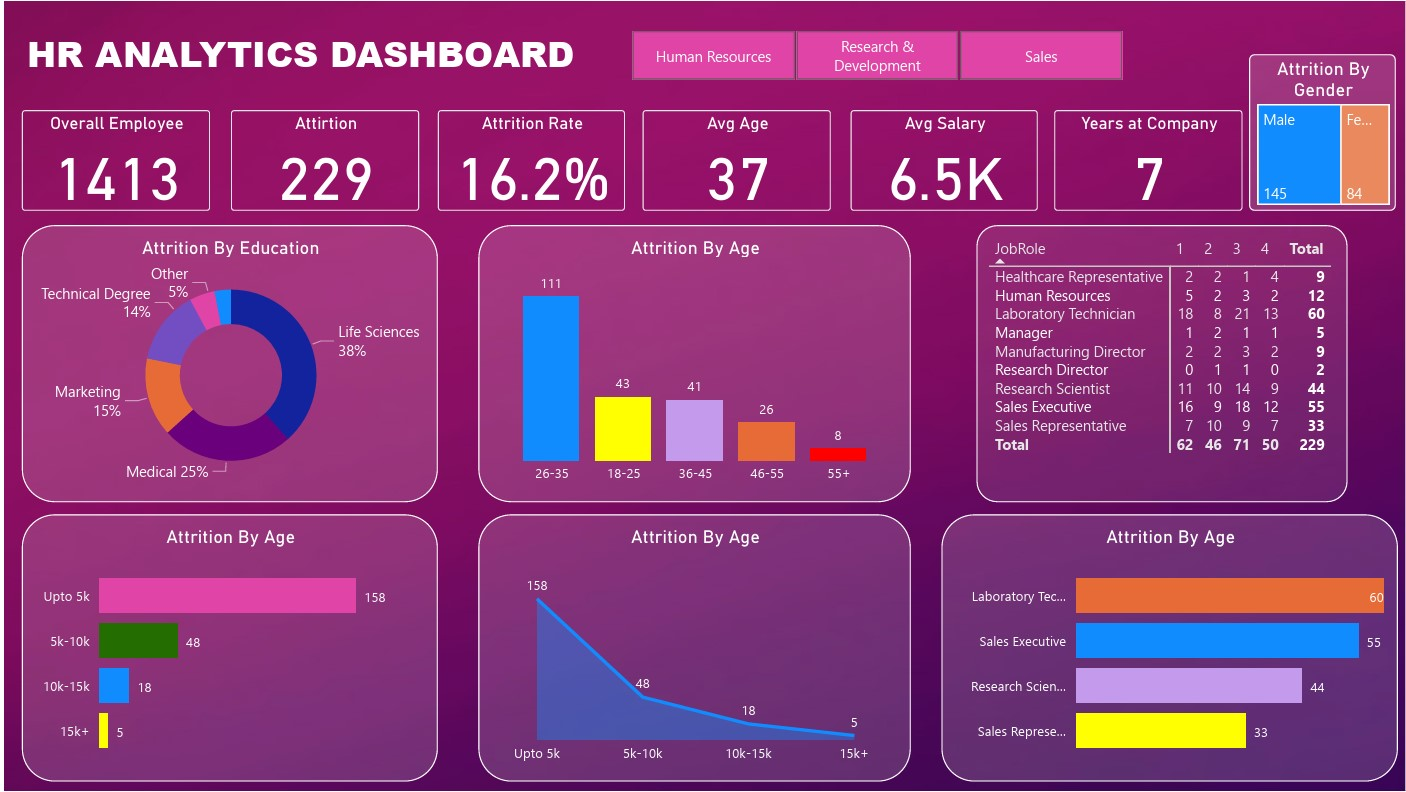

The dashboard page shown, as its layout file describes it:
{"tool":"powerbi","page":{"name":"Page 1","canvas":[1280,720],"ordinal":0},"visuals":[{"type":"card","title":"Overall Employee","fields":{"Values":["Count(HR_Analytics.EmpID)"]},"box":[16,99.3,172,91.3],"z":0},{"type":"card","title":"Attirtion","fields":{"Values":["Sum(HR_Analytics.AttritionCount)"]},"box":[206.6,99.3,172,91.3],"z":1000},{"type":"card","title":"Attrition Rate","fields":{"Values":["HR_Analytics.AttritionRate"]},"box":[396.4,99.3,171.1,91.3],"z":2000},{"type":"card","title":"Avg Age","fields":{"Values":["Avg(HR_Analytics.Age)"]},"box":[583.4,99.3,171.1,91.3],"z":3000},{"type":"card","title":"Avg Salary","fields":{"Values":["Avg(HR_Analytics.MonthlyIncome)"]},"box":[773.2,99.3,171.1,91.3],"z":4000},{"type":"card","title":"Years at Company","fields":{"Values":["Avg(HR_Analytics.YearsAtCompany)"]},"box":[959.4,99.3,171.1,91.3],"z":5000},{"type":"donutChart","title":"Attrition By Education","fields":{"Category":["HR_Analytics.EducationField"],"Y":["Sum(HR_Analytics.AttritionCount)"]},"box":[16,203.9,380.4,252.7],"z":6000},{"type":"clusteredColumnChart","title":"Attrition By Age","fields":{"Category":["HR_Analytics.AgeGroup"],"Y":["Sum(HR_Analytics.AttritionCount)"]},"box":[432.7,203.9,395.5,252.7],"z":7000},{"type":"barChart","title":"Attrition By Age","fields":{"Category":["HR_Analytics.SalarySlab"],"Y":["Sum(HR_Analytics.AttritionCount)"]},"box":[16,468.2,380.4,243.8],"z":8000},{"type":"areaChart","title":"Attrition By Age","fields":{"Category":["HR_Analytics.SalarySlab"],"Y":["Sum(HR_Analytics.AttritionCount)"]},"box":[432.7,468.2,395.5,243.8],"z":9000},{"type":"barChart","title":"Attrition By Age","fields":{"Category":["HR_Analytics.JobRole"],"Y":["Sum(HR_Analytics.AttritionCount)"]},"box":[855.7,468.2,417.6,243.8],"z":10000},{"type":"textbox","box":[16,19.5,523.2,55.9],"z":11000},{"type":"treemap","title":"Attrition By Gender","fields":{"Values":["Sum(HR_Analytics.AttritionCount)"],"Group":["HR_Analytics.Gender"]},"box":[1136.7,47.9,133.9,142.8],"z":12000},{"type":"slicer","fields":{"Values":["HR_Analytics.Department"]},"box":[548,19.5,497.4,55],"z":13000},{"type":"pivotTable","fields":{"Rows":["HR_Analytics.JobRole"],"Columns":["HR_Analytics.JobSatisfaction"],"Values":["Sum(HR_Analytics.AttritionCount)"]},"box":[888.4,204.2,338.9,252.6],"z":14000}]}

Visuals, with their boxes in screenshot pixels (x1, y1, x2, y2), scaled from the page's 1280x720 canvas onto the 1406x792 screenshot:
"Overall Employee" card: crop(18, 109, 207, 210)
"Attirtion" card: crop(227, 109, 416, 210)
"Attrition Rate" card: crop(435, 109, 623, 210)
"Avg Age" card: crop(641, 109, 829, 210)
"Avg Salary" card: crop(849, 109, 1037, 210)
"Years at Company" card: crop(1054, 109, 1242, 210)
"Attrition By Education" donutChart: crop(18, 224, 435, 502)
"Attrition By Age" clusteredColumnChart: crop(475, 224, 910, 502)
"Attrition By Age" barChart: crop(18, 515, 435, 783)
"Attrition By Age" areaChart: crop(475, 515, 910, 783)
"Attrition By Age" barChart: crop(940, 515, 1399, 783)
textbox: crop(18, 21, 592, 83)
"Attrition By Gender" treemap: crop(1249, 53, 1396, 210)
slicer - HR_Analytics.Department: crop(602, 21, 1148, 82)
pivotTable - HR_Analytics.JobRole x HR_Analytics.JobSatisfaction: crop(976, 225, 1348, 502)
